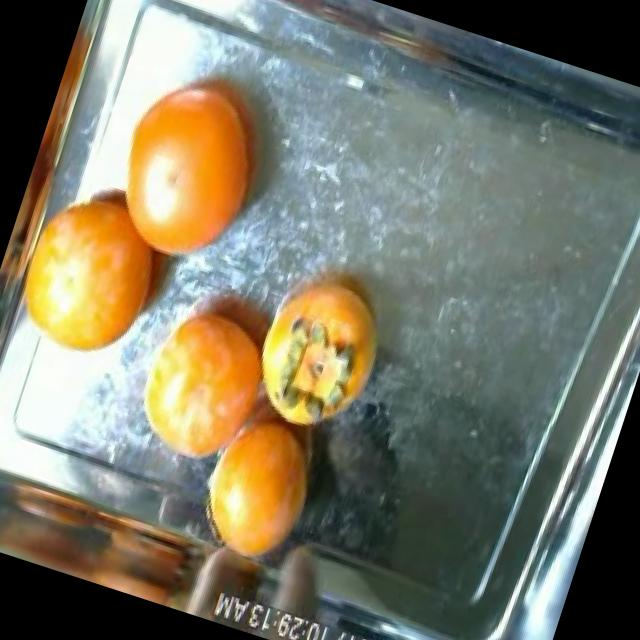Fruit: (78, 50, 296, 295), (0, 159, 198, 389), (105, 262, 294, 492), (175, 360, 359, 587)
